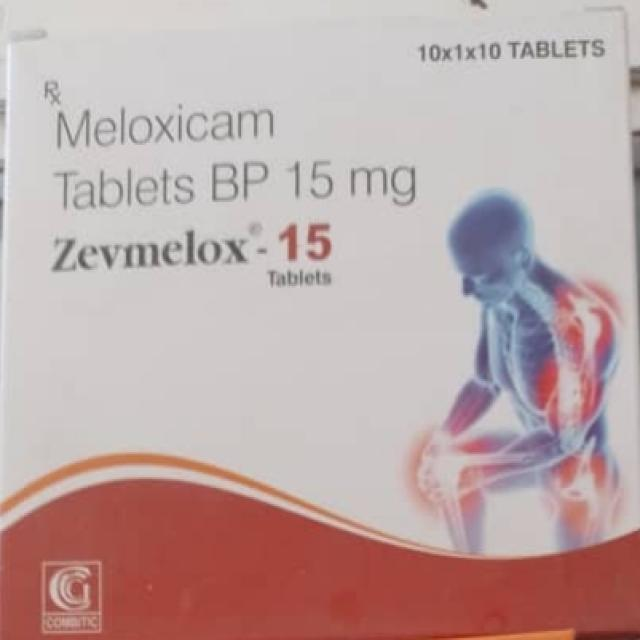drug-name: (48, 221, 334, 275)
